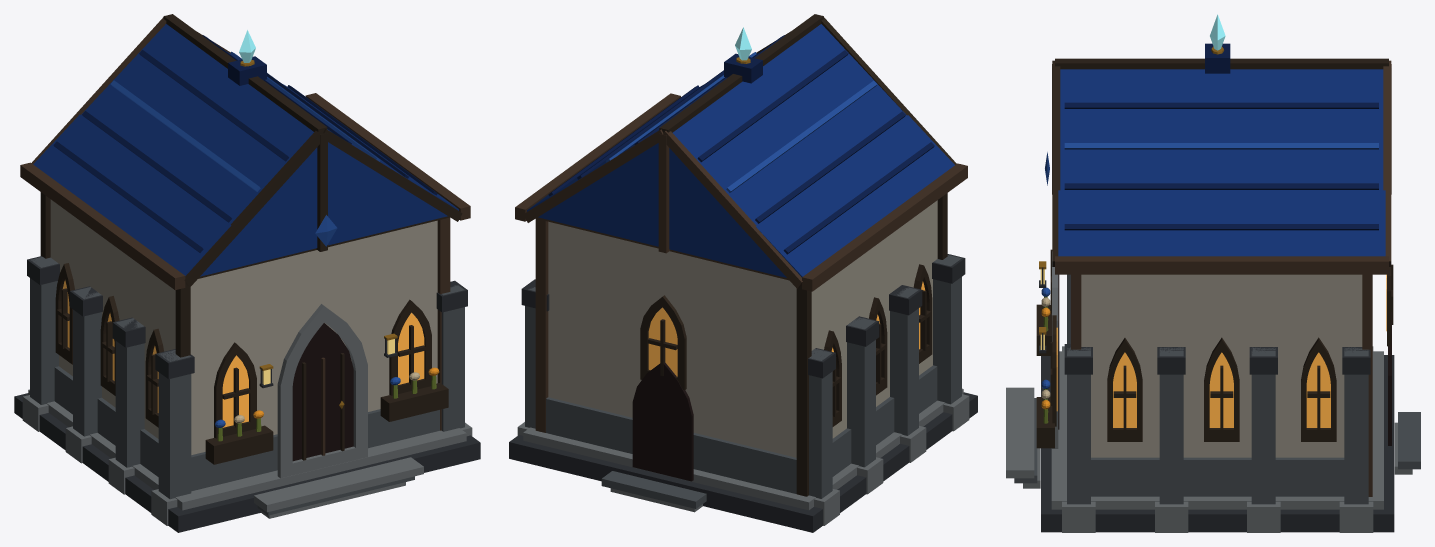
File: eastbrook_chapel.glb
3 renders of one model, left to right at view 1: azimuth 30°, elevation 25°; view 2: azimuth 150°, elevation 25°; view 3: azimuth 270°, elevation 25°, orthographic. The views are drawn at different scales.
Visible parts, largest first — view 1: EastbrookChapel_TownOpaque, EastbrookChapel_TownEmissive; view 2: EastbrookChapel_TownOpaque, EastbrookChapel_TownEmissive; view 3: EastbrookChapel_TownOpaque, EastbrookChapel_TownEmissive.
Part boxes in pixels (x1,y1,x2,y2): EastbrookChapel_TownOpaque: (14, 14, 480, 532); EastbrookChapel_TownEmissive: (63, 30, 424, 427); EastbrookChapel_TownOpaque: (509, 14, 977, 532); EastbrookChapel_TownEmissive: (648, 27, 925, 376); EastbrookChapel_TownOpaque: (1006, 43, 1420, 532); EastbrookChapel_TownEmissive: (1040, 14, 1386, 427).
Size of the model in its own units: 5.5 by 7 by 6.
